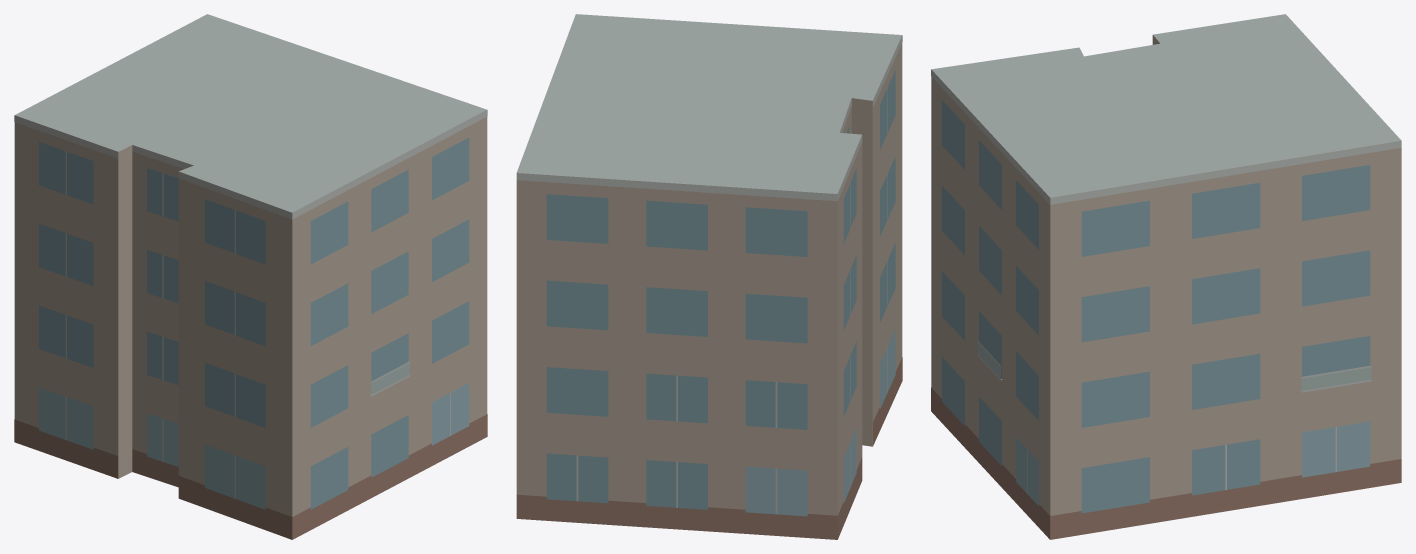
Rendered from survey-upis-32864799.glb.
The picture shows the model from 3 angles, left to right: view 1: azimuth 30°, elevation 25°; view 2: azimuth 150°, elevation 25°; view 3: azimuth 270°, elevation 25°; orthographic projection. The views are drawn at different scales.
Parts seen in each view (by area): view 1: survey-upis-32864799.tmp; view 2: survey-upis-32864799.tmp; view 3: survey-upis-32864799.tmp.
Part boxes in pixels (left/top/right/bottom): survey-upis-32864799.tmp: left=14, top=14, right=487, bottom=539; survey-upis-32864799.tmp: left=516, top=14, right=902, bottom=539; survey-upis-32864799.tmp: left=931, top=14, right=1401, bottom=539.
Bounding box in the file's own units: 13.61 × 11.8 × 14.72.
